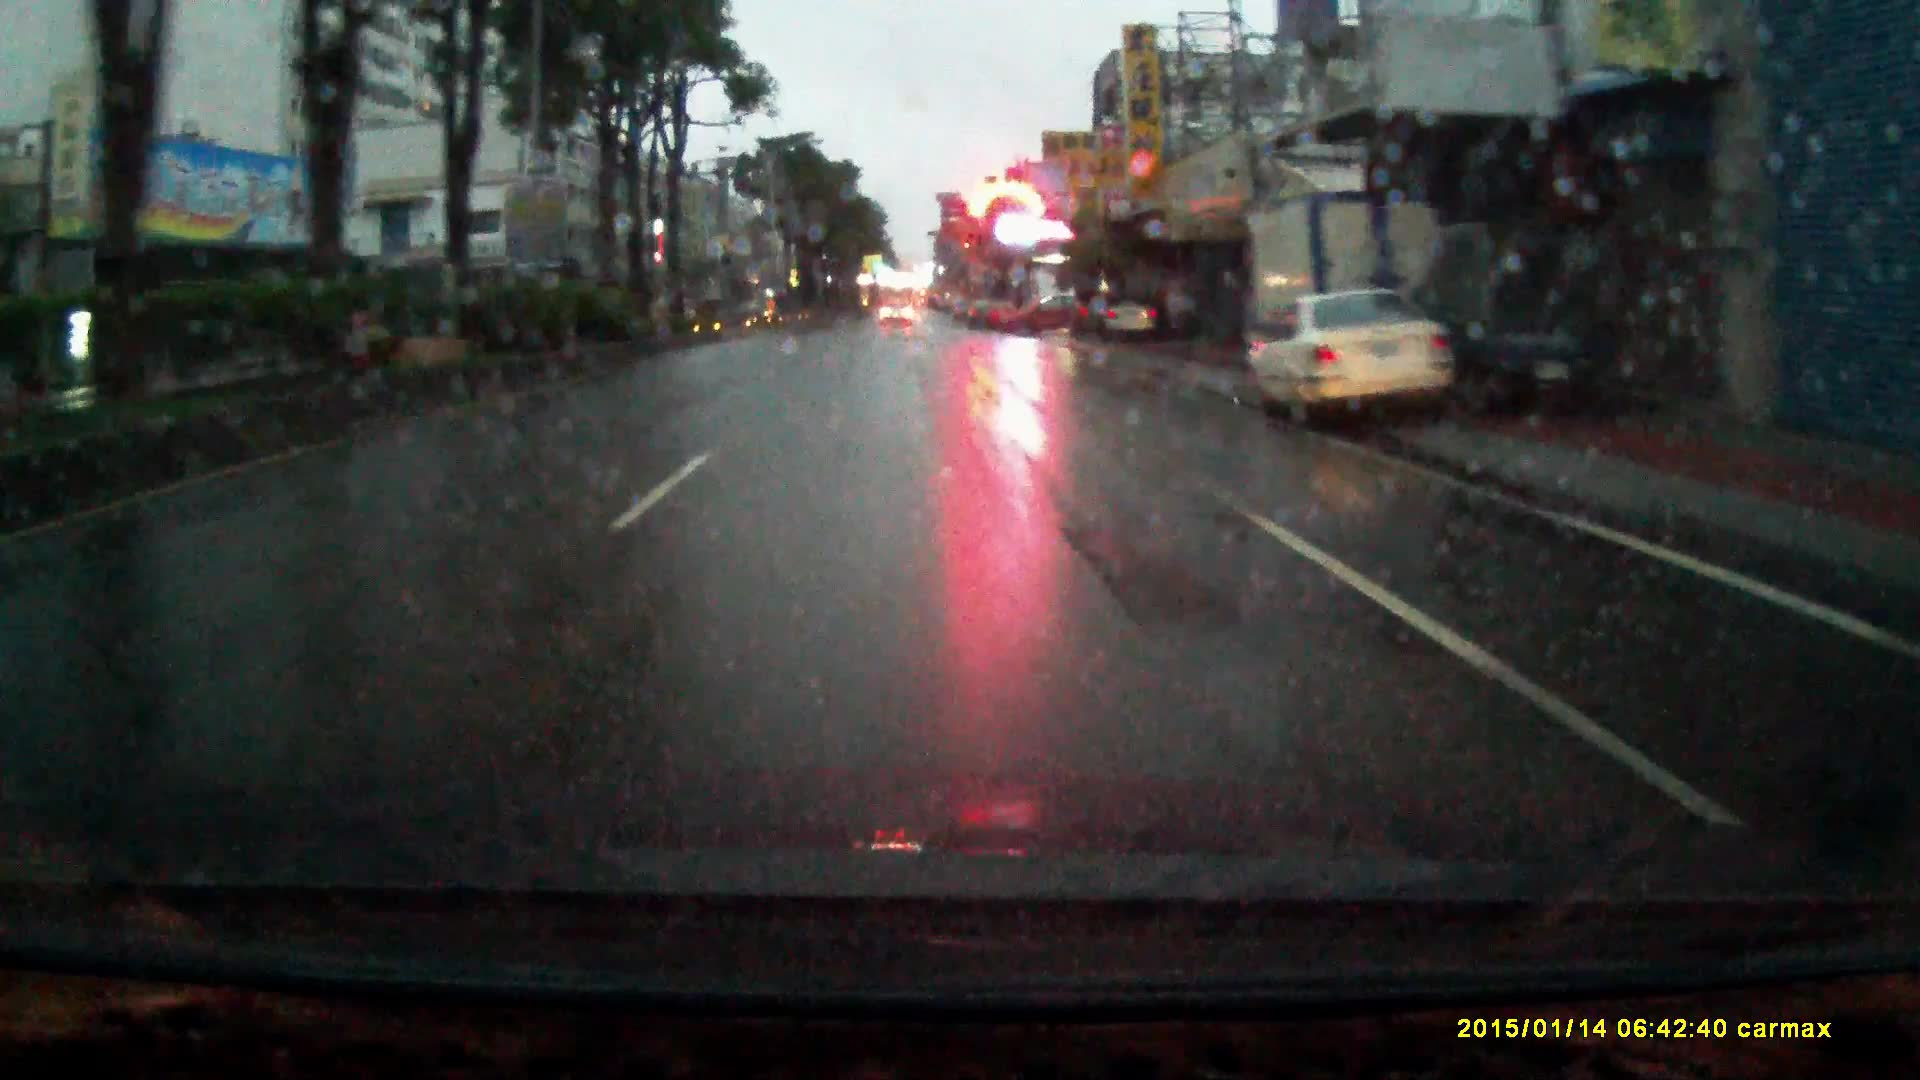vehicle: (1229, 171, 1487, 396), (1473, 214, 1689, 417), (1232, 284, 1466, 423), (997, 289, 1087, 336), (1091, 290, 1160, 340), (881, 297, 915, 330)
